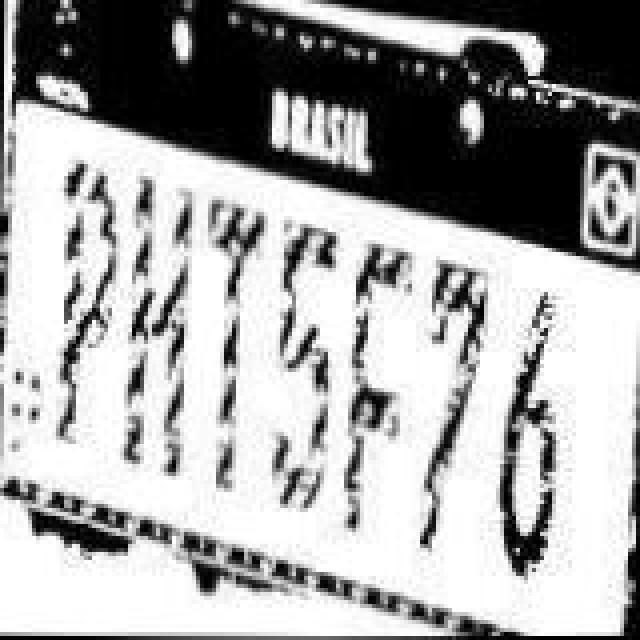5: (268, 208, 348, 516)
6: (492, 278, 576, 578)
7: (414, 262, 494, 562)
F: (340, 236, 416, 540)
H: (120, 168, 200, 492)
P: (50, 158, 134, 458)
T: (196, 184, 268, 496)
